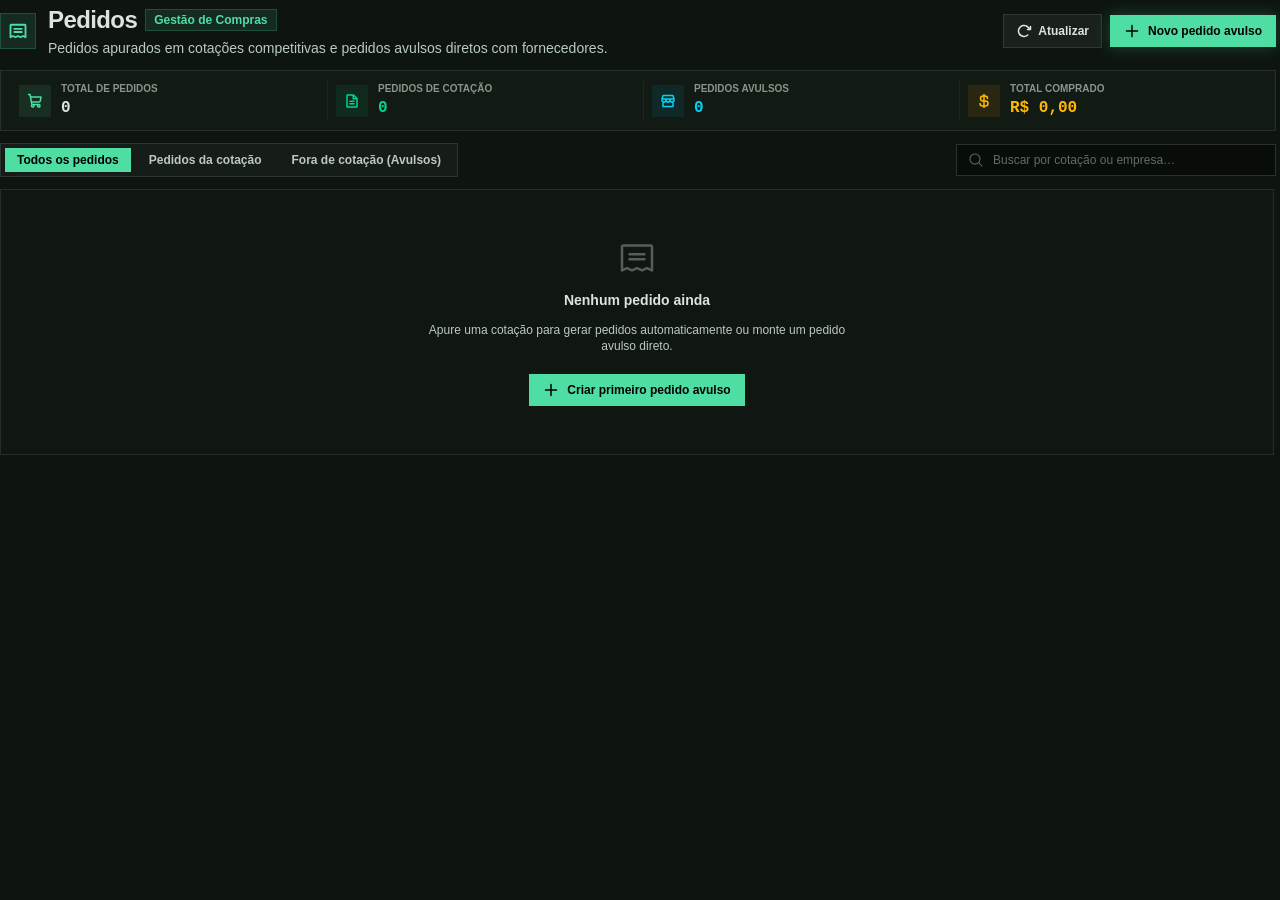
botão "Novo pedido avulso" abre o modal de configuração de pedido
Click the button "Novo pedido avulso" at (1193,31), box [1110, 15, 1276, 47]
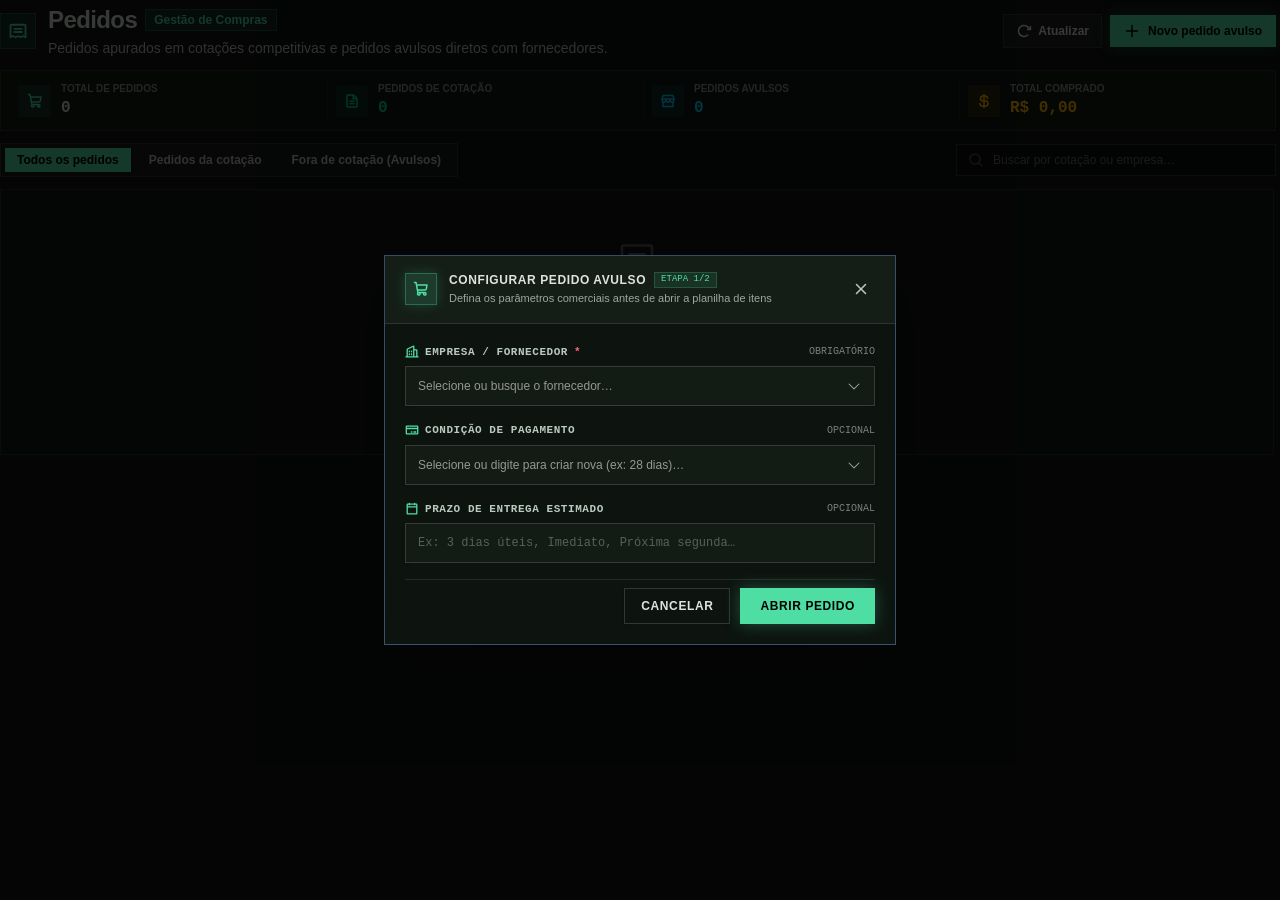
Result: the dialog named "Configurar novo pedido avulso" is shown at [384, 255, 896, 645]
